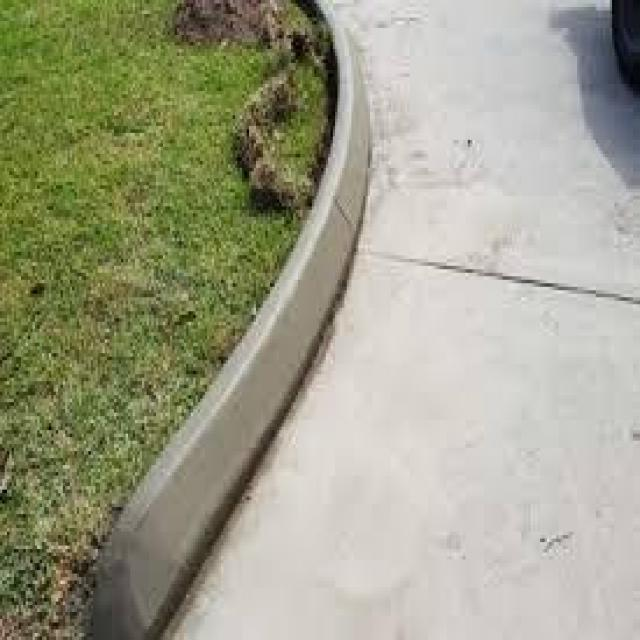curb: (89, 1, 377, 640)
